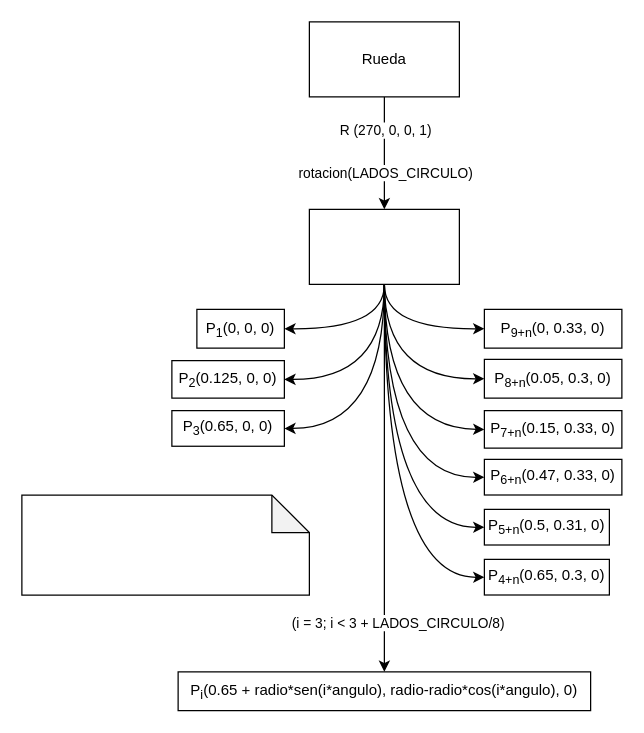
The diagram is 644 pixels wide and 733 high, and some of its shapes have lost their labels. Here are the shapes that lost their labels. From the top down, the centre of each, then its label:
At point (383, 246): "Perfil".
At point (165, 544): "radio = 0.15 angulo = M_PI / (LADOS_CIRCULO/8)".
